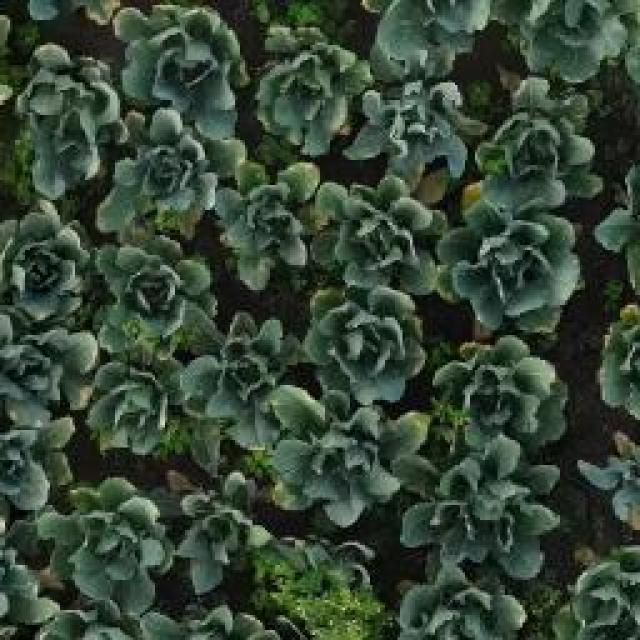cabbage: (399, 434, 558, 576), (444, 177, 583, 333), (38, 472, 179, 616), (97, 103, 247, 227), (285, 404, 427, 527), (89, 229, 222, 357), (109, 0, 252, 115), (181, 316, 316, 436), (430, 337, 573, 447), (318, 168, 442, 294), (15, 38, 121, 184), (211, 162, 331, 279), (476, 78, 595, 194), (250, 30, 360, 147), (175, 466, 271, 600), (0, 190, 95, 324), (358, 67, 482, 166), (390, 557, 535, 640), (316, 290, 427, 396), (0, 317, 103, 429), (507, 0, 630, 85), (81, 356, 180, 460), (273, 518, 380, 608), (551, 544, 640, 640)
